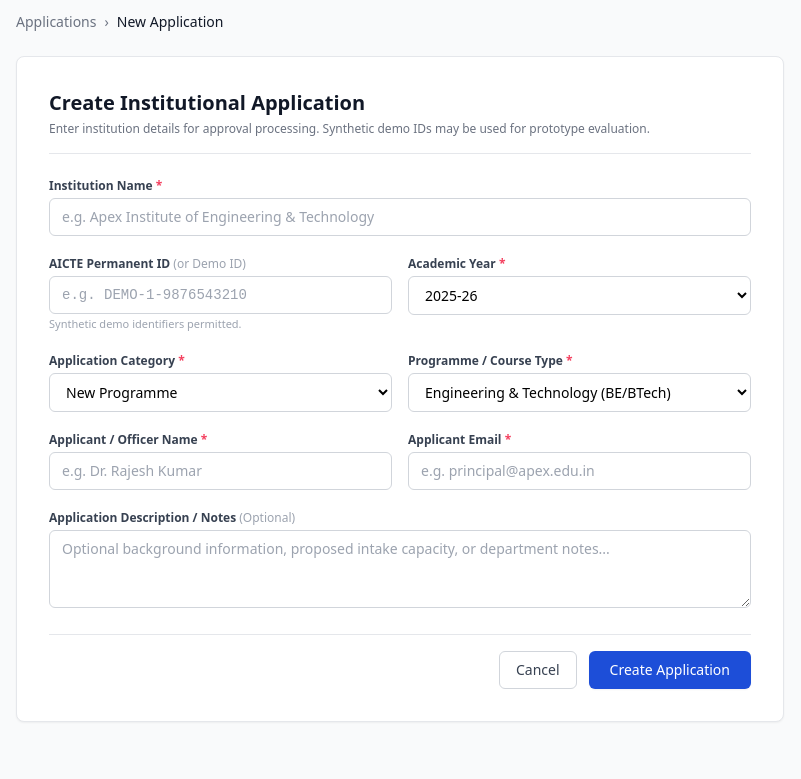
Scenario: Application Pages › validates required fields on ApplicationCreatePage
Click the button "Create Application".
click(670, 670)  # box top-left (588, 650), bottom-right (751, 688)
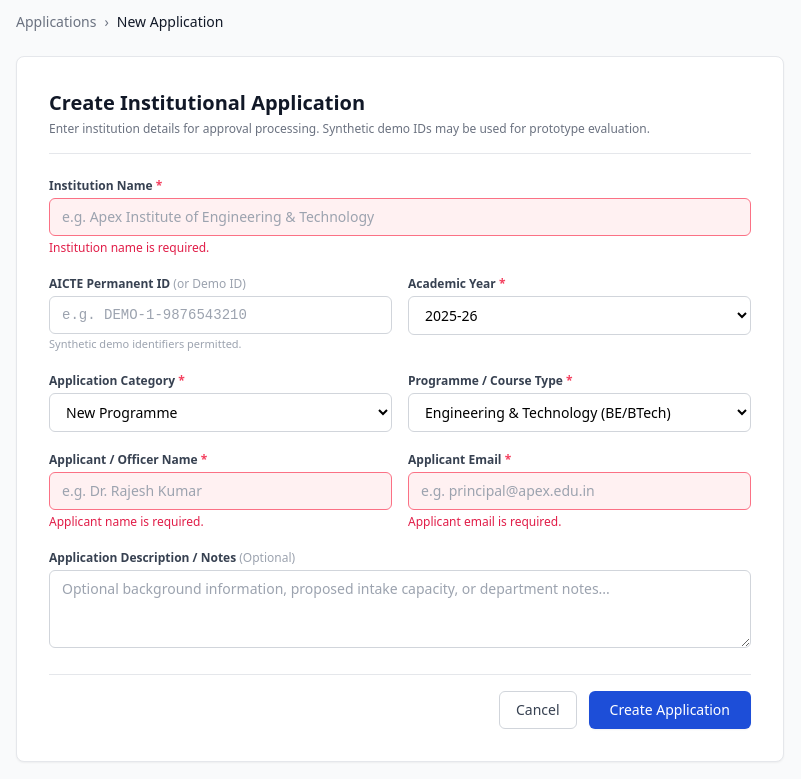
Check: the text "Institution name is required." is shown, box top-left (49, 239), bottom-right (209, 256)
Check: the text "Applicant name is required." is shown, box top-left (49, 512), bottom-right (204, 530)
Check: the text "Applicant email is required." is shown, box top-left (408, 512), bottom-right (561, 530)
